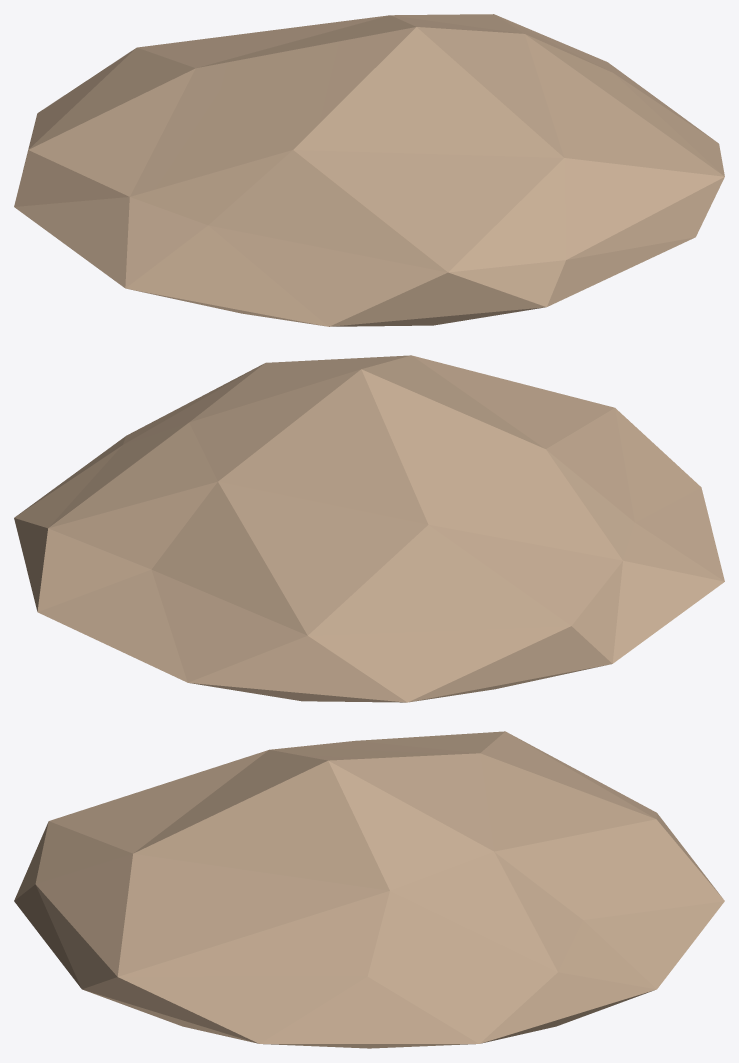
Rendered from Pile Of Sand 1.fbx.
3 renders of one model, top to bottom at view 1: azimuth 30°, elevation 25°; view 2: azimuth 150°, elevation 25°; view 3: azimuth 270°, elevation 25°, orthographic. The views are drawn at different scales.
Visible parts, largest first — view 1: Pile Of Sand 1; view 2: Pile Of Sand 1; view 3: Pile Of Sand 1.
Part boxes in pixels (left/top/right/bottom): Pile Of Sand 1: left=14, top=14, right=724, bottom=326; Pile Of Sand 1: left=14, top=355, right=724, bottom=702; Pile Of Sand 1: left=14, top=731, right=724, bottom=1048.
Size of the model in its own units: 116 by 122 by 36.23.
